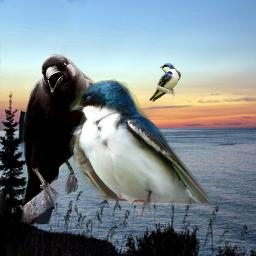Crow: (21, 54, 100, 224)
Swallow: (69, 78, 214, 225), (149, 63, 181, 102)
